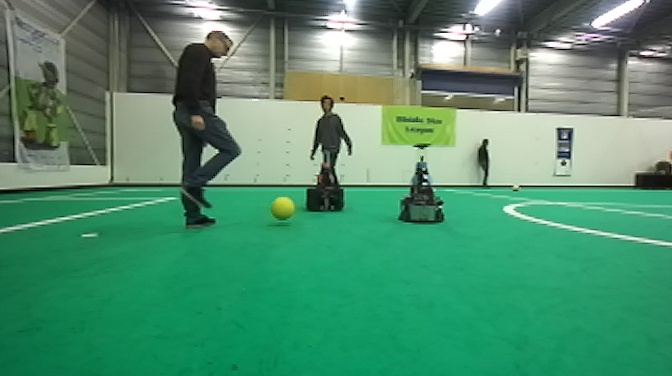ball: (270, 196, 296, 222), (509, 181, 523, 194)
human: (168, 29, 244, 230), (308, 93, 355, 207), (473, 133, 495, 189)
robot: (396, 141, 447, 225), (306, 148, 347, 212)
